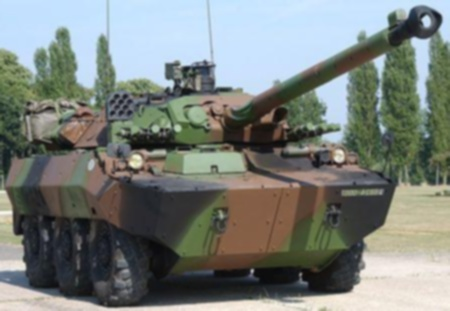license_plate: (340, 188, 388, 197)
